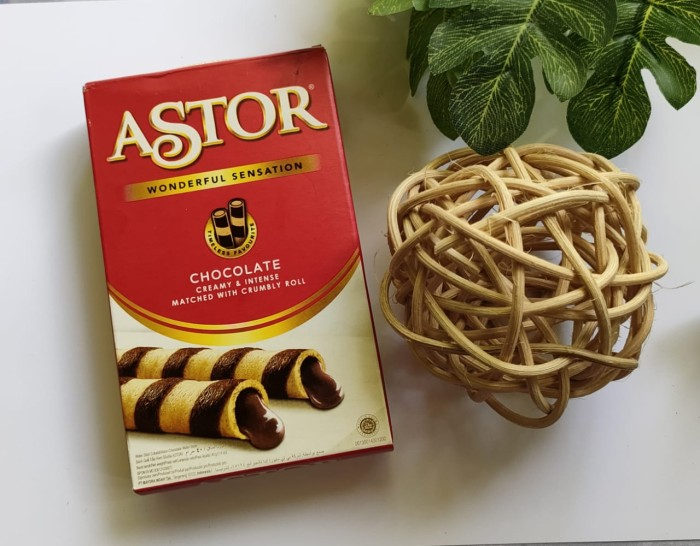Astor Chocolate (40g): (61, 83, 357, 498)
